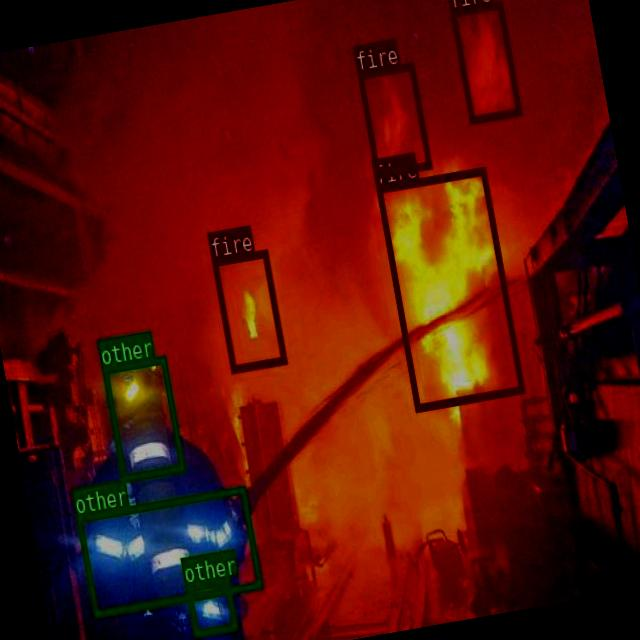fire: (374, 165, 524, 410), (211, 248, 285, 372), (356, 60, 432, 176), (449, 0, 521, 122)
